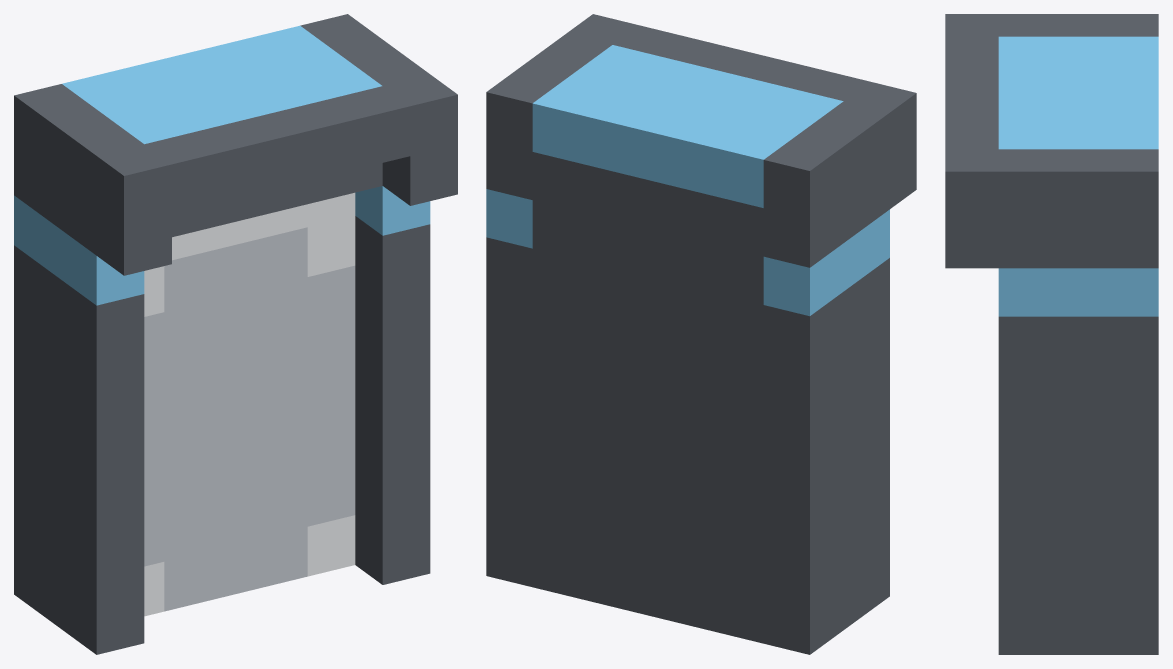
File: door-lock.obj
The picture shows the model from 3 angles, left to right: view 1: azimuth 30°, elevation 25°; view 2: azimuth 150°, elevation 25°; view 3: azimuth 270°, elevation 25°; orthographic projection. The views are drawn at different scales.
Size of the model in its own units: 0.7 by 1 by 0.4.
Materials: 1 (1 with a texture image).
